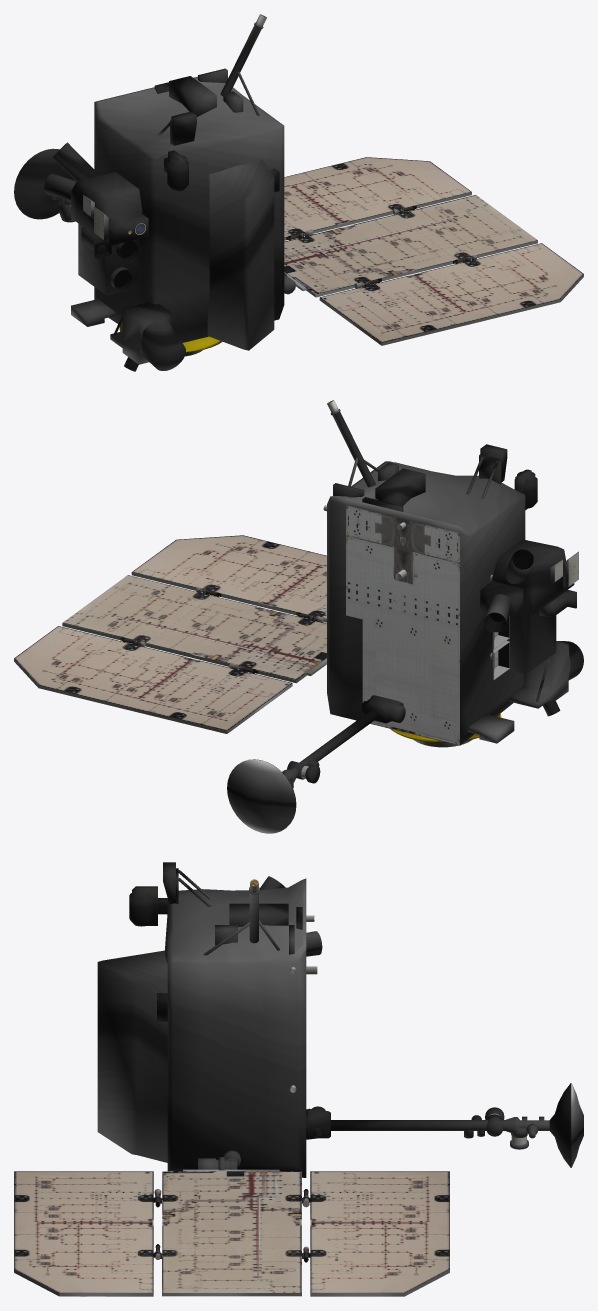
File: lunar-reconnaissance-orbiter-b.glb
3 renders of one model, top to bottom at view 1: azimuth 30°, elevation 25°; view 2: azimuth 150°, elevation 25°; view 3: azimuth 270°, elevation 25°, orthographic. The views are drawn at different scales.
Visible parts, largest first — view 1: foil_silver_dish, tex, dark_black; view 2: foil_silver_dish, tex, panel, dark_black; view 3: foil_silver_dish, tex, dark_black.
Boxes of the visible parts, bbox=[...] form: foil_silver_dish: bbox=[14, 22, 295, 371]; tex: bbox=[284, 157, 583, 342]; dark_black: bbox=[53, 14, 583, 356]; foil_silver_dish: bbox=[227, 409, 583, 833]; tex: bbox=[14, 535, 326, 730]; panel: bbox=[346, 505, 459, 745]; dark_black: bbox=[14, 400, 578, 778]; foil_silver_dish: bbox=[97, 862, 583, 1177]; tex: bbox=[14, 1171, 449, 1292]; dark_black: bbox=[14, 879, 526, 1296].
Size of the model in its own units: 5.45 by 3.66 by 5.51.
Materials: 5 (5 with a texture image).
